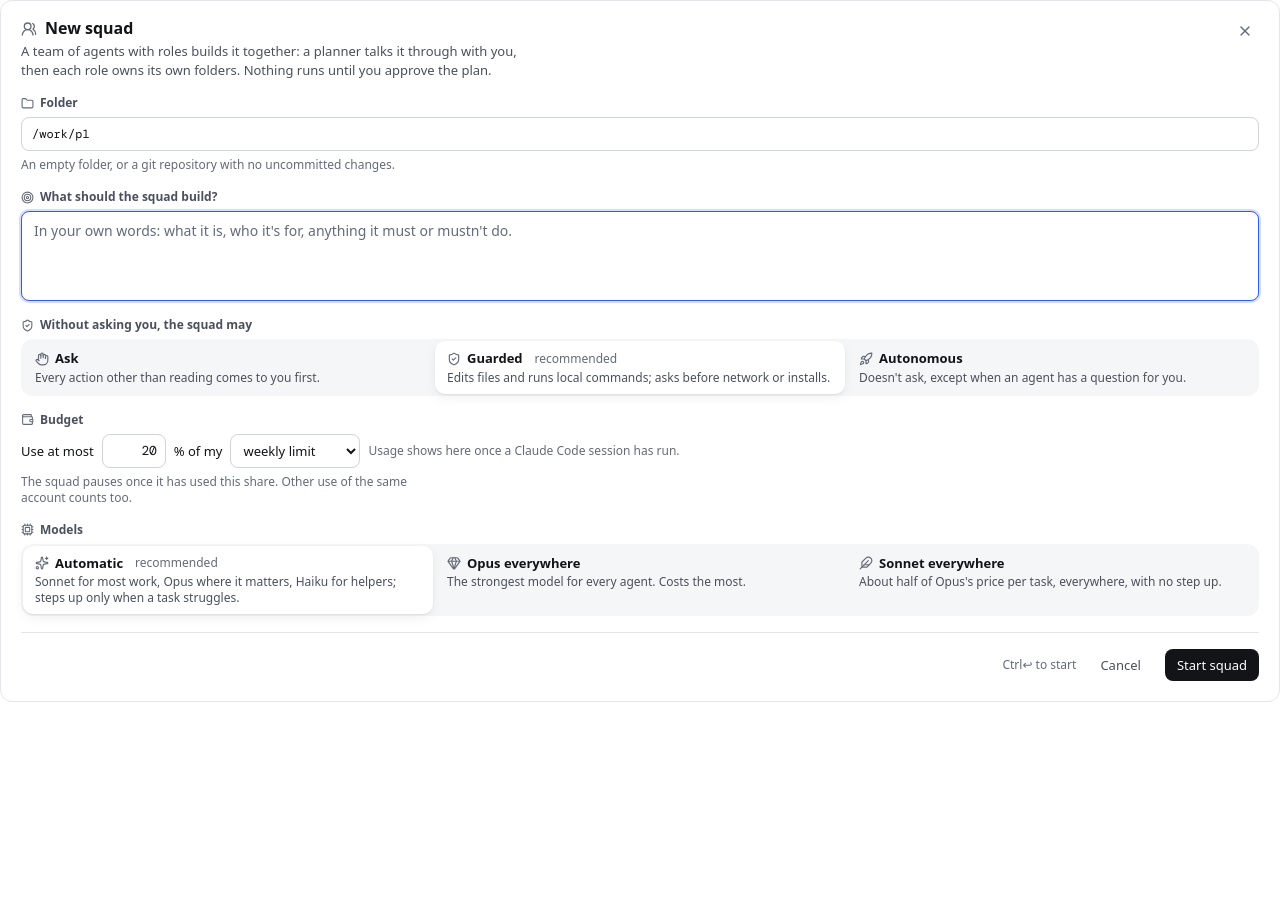
Scenario: NewSquadPanel › switches to dollars when the engine finds the account has no plan limits
Replace the text in the text box labelled "What should the squad build?" with "A todo app" at {"x": 640, "y": 256}, box [34,220,1246,292]
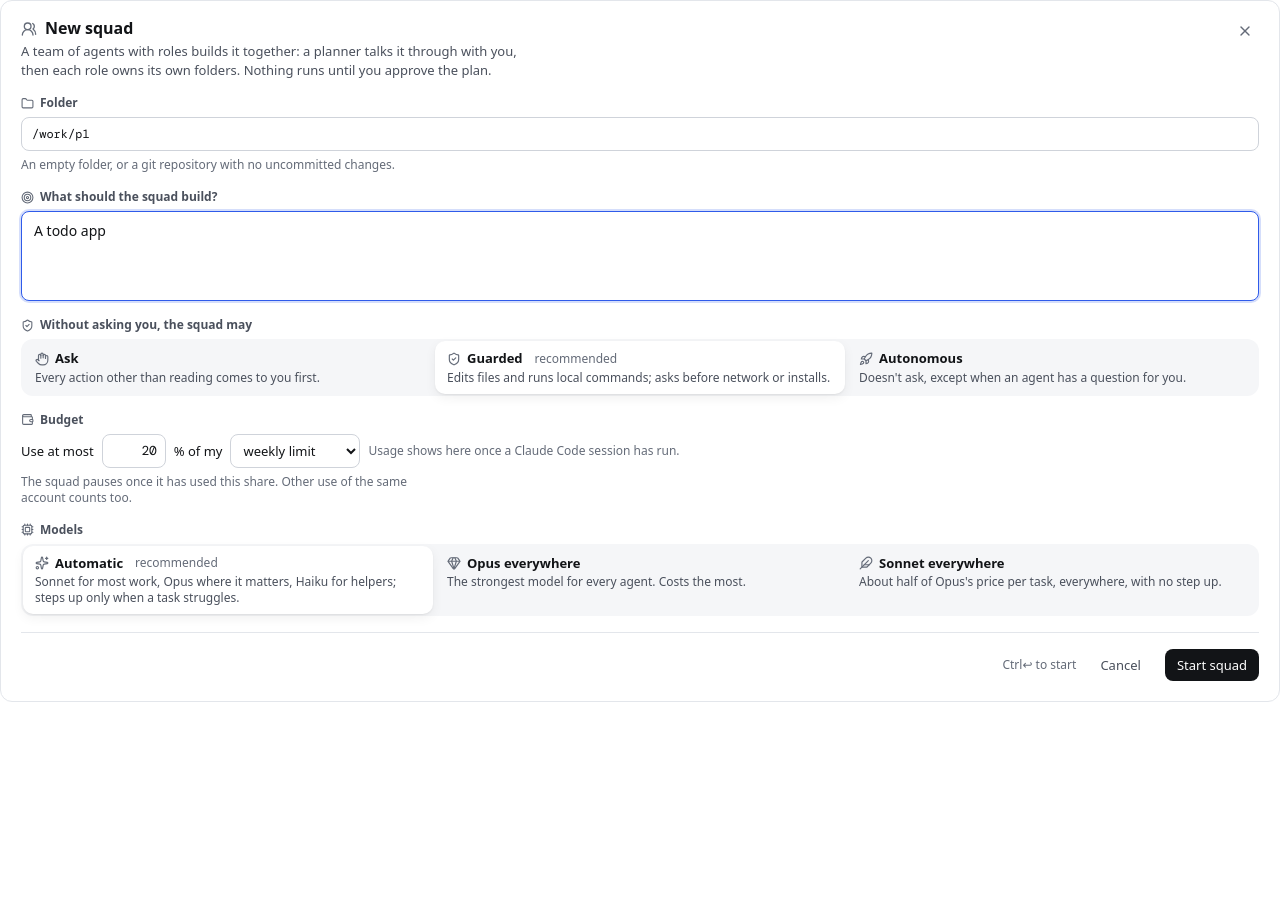
Click the button "Start squad".
click(1212, 665)  # box [1165,649,1259,681]
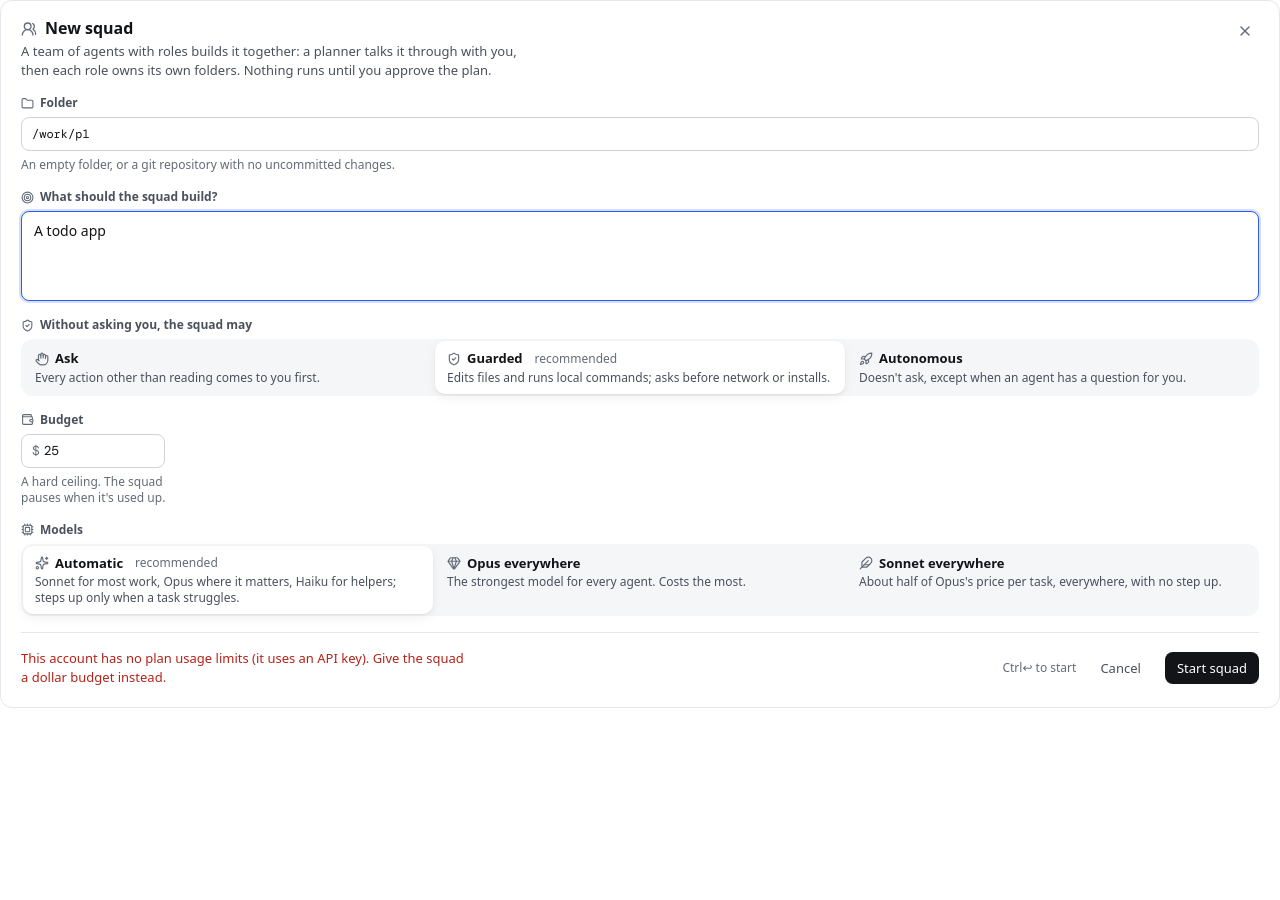
Expected: the message shows "Give the squad a dollar budget", [21,649,464,686]
Expected: the field labelled "Budget" holds "25", [40,435,164,467]
